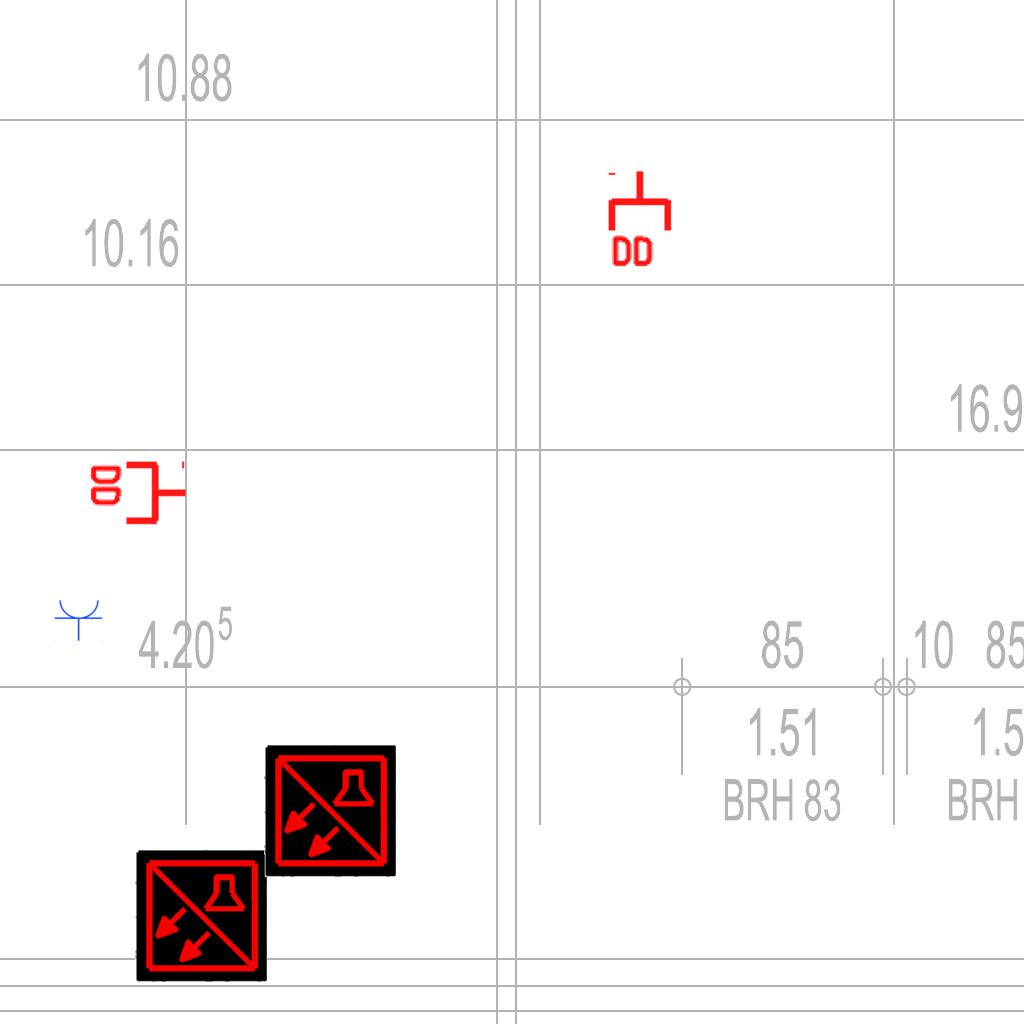Datenanschluss_zweifach: (86, 460, 189, 529), (607, 168, 676, 271)
OKW_Multisensormelder_(Kombination_optischer_Rauch-Kahlenmonoxid_Waerme-Melder): (135, 850, 267, 982), (264, 745, 396, 877)
Schukosteckdose_einfach: (54, 598, 104, 641)
